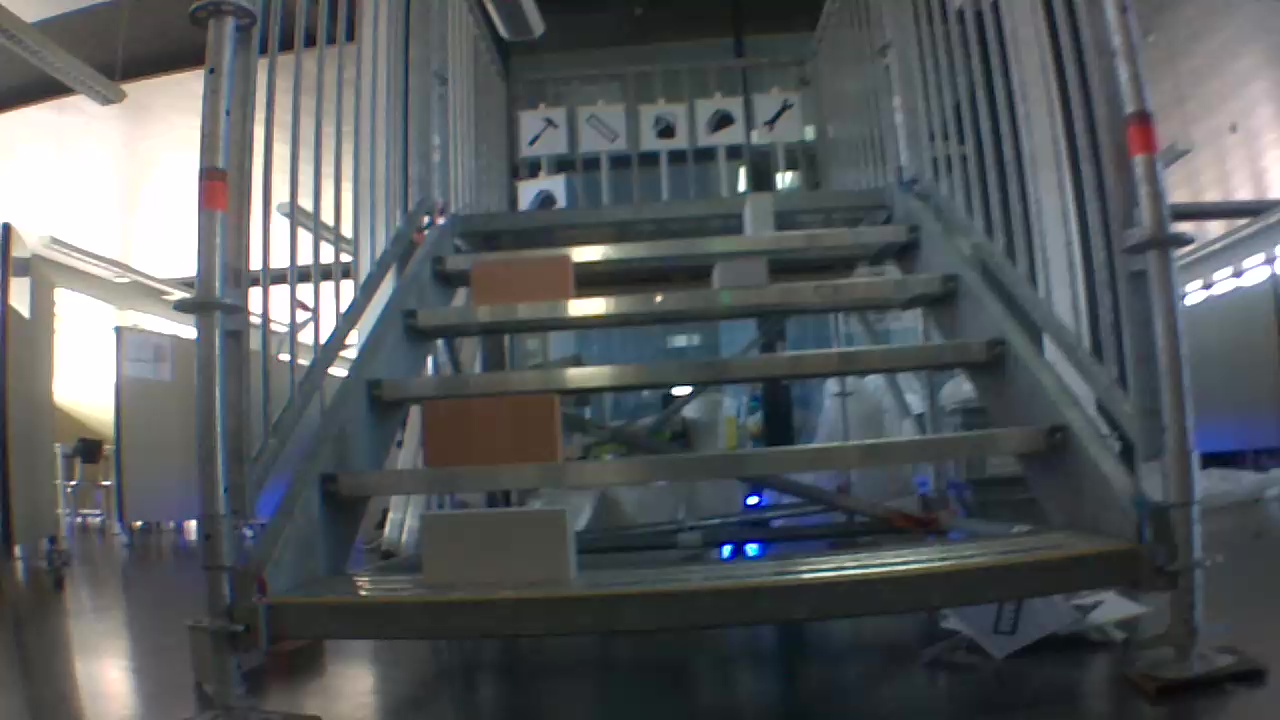brick: (421, 506, 575, 588), (423, 393, 560, 467), (470, 253, 570, 300), (713, 258, 767, 287), (744, 193, 774, 235)
bucket: (646, 108, 681, 142)
edge: (264, 549, 1140, 638), (322, 423, 1070, 493), (370, 338, 1003, 399), (404, 275, 961, 325), (436, 225, 921, 271), (454, 188, 887, 218)
hammer: (524, 113, 561, 148)
ruler: (581, 110, 621, 144)
stairs: (174, 2, 1266, 713)
steps: (255, 182, 1149, 658)
taco: (701, 104, 739, 136), (523, 183, 561, 208)
wrench: (758, 93, 797, 136)
